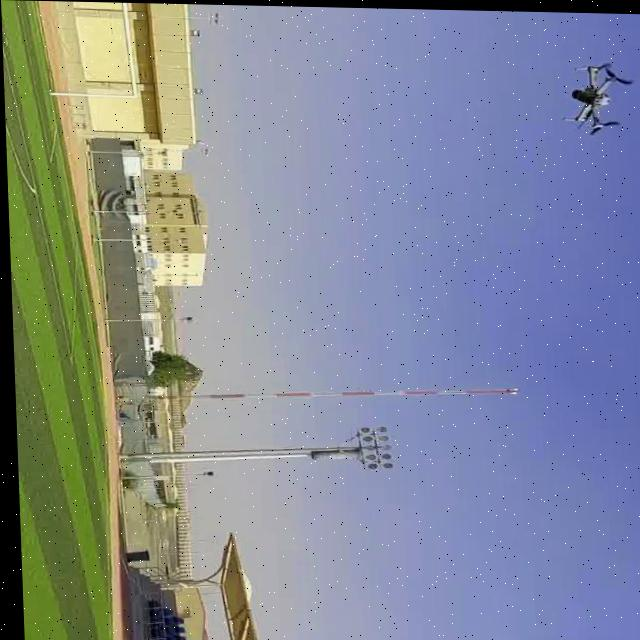drone: (544, 54, 637, 144)
